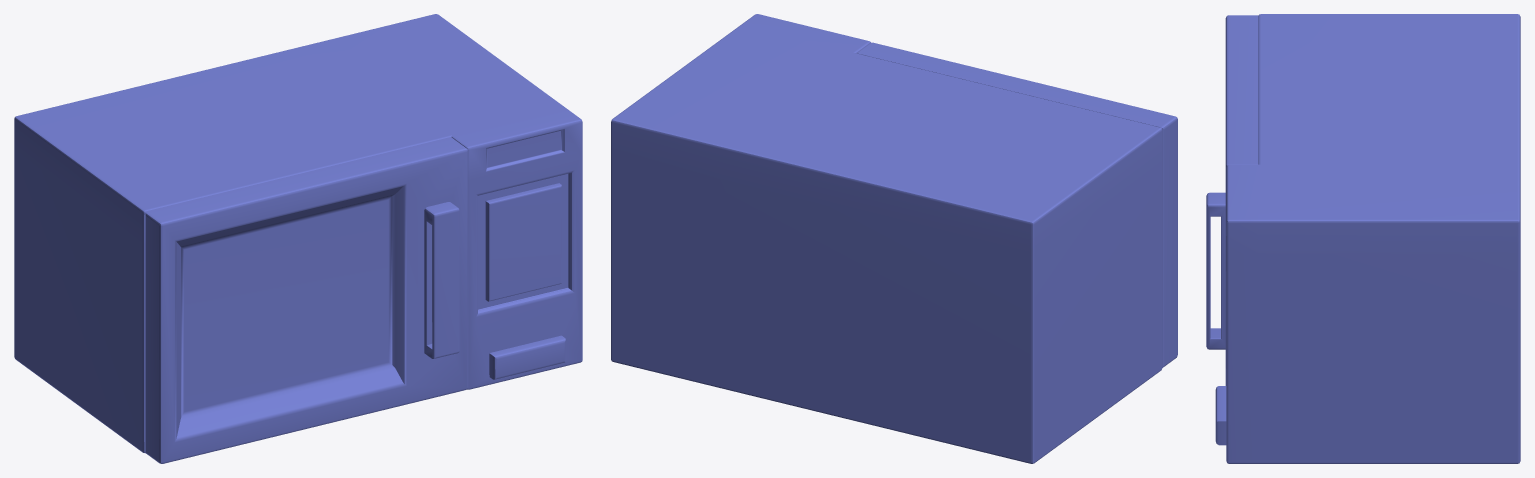
The model's file is EnvrioProp_Microwave.fbx.
The picture shows the model from 3 angles, left to right: view 1: azimuth 30°, elevation 25°; view 2: azimuth 150°, elevation 25°; view 3: azimuth 270°, elevation 25°; orthographic projection.
Visible parts, largest first — view 1: EnvrioProp_MicrowaveShape; view 2: EnvrioProp_MicrowaveShape; view 3: EnvrioProp_MicrowaveShape.
Part boxes in pixels (left/top/right/bottom): EnvrioProp_MicrowaveShape: left=14, top=14, right=582, bottom=463; EnvrioProp_MicrowaveShape: left=611, top=14, right=1177, bottom=463; EnvrioProp_MicrowaveShape: left=1206, top=14, right=1520, bottom=463.
Bounding box in the file's own units: 1.13 × 0.6208 × 0.7228.
